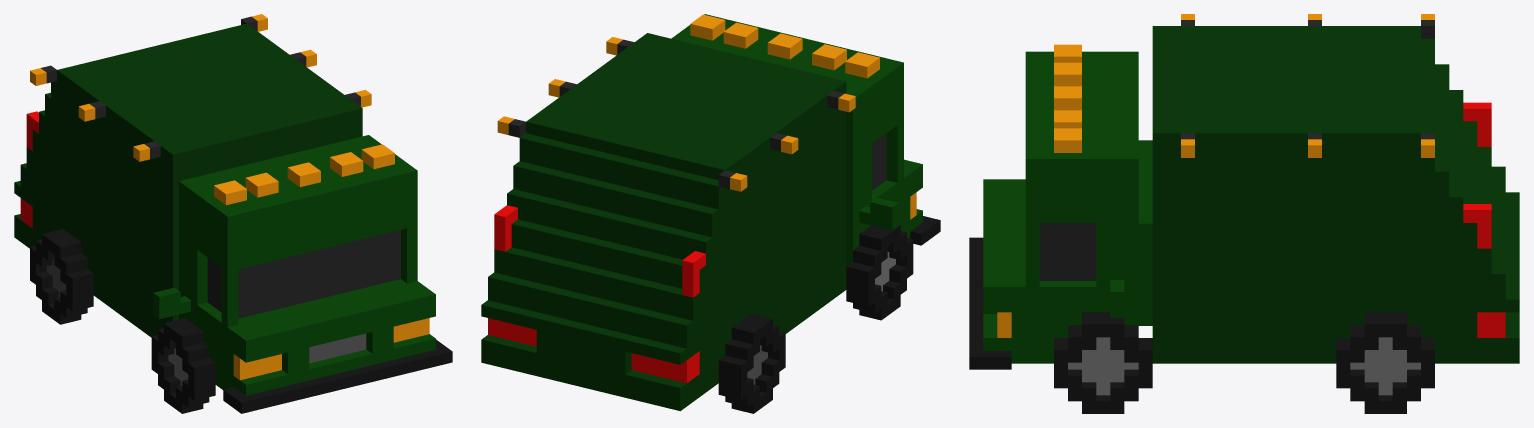
File: greentruckassets.vox.obj
The picture shows the model from 3 angles, left to right: view 1: azimuth 30°, elevation 25°; view 2: azimuth 150°, elevation 25°; view 3: azimuth 270°, elevation 25°; orthographic projection. The views are drawn at different scales.
Size of the model in its own units: 2.4 by 2.1 by 3.9.
1 material, 1 textured.
